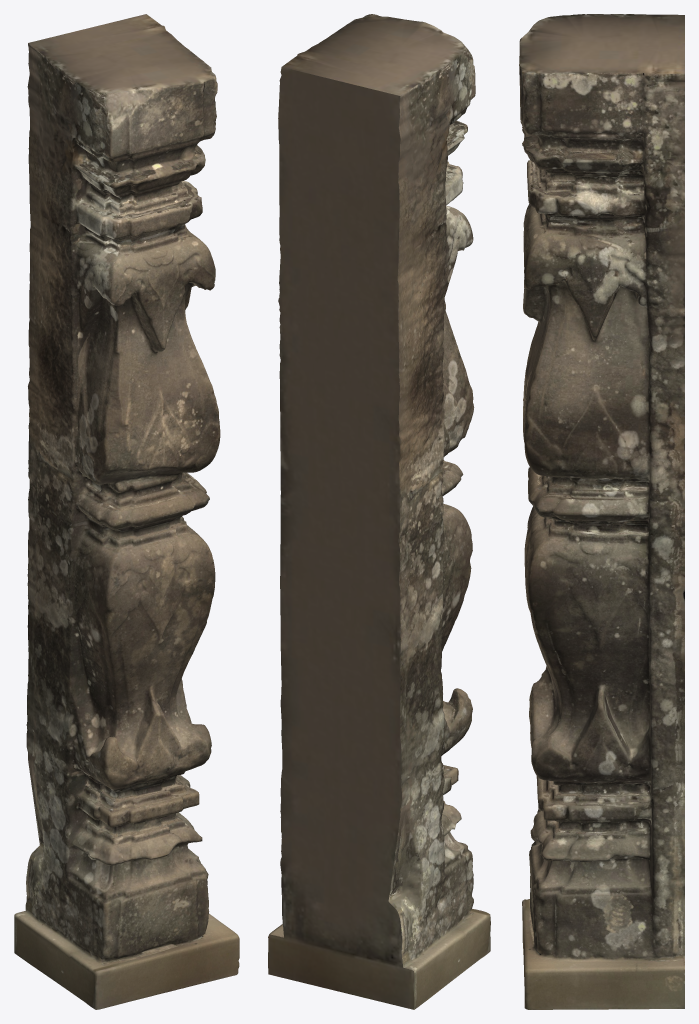
File: MysonMuseum_trucuaD2.glb
The picture shows the model from 3 angles, left to right: view 1: azimuth 30°, elevation 25°; view 2: azimuth 150°, elevation 25°; view 3: azimuth 270°, elevation 25°; orthographic projection. The views are drawn at different scales.
Visible parts, largest first — view 1: REMESH; view 2: REMESH; view 3: REMESH.
Boxes of the visible parts, x1,y1,x2,y2 form: REMESH: [14, 14, 239, 1009]; REMESH: [268, 14, 490, 1009]; REMESH: [519, 14, 684, 1009].
Bounding box in the file's own units: 0.4023 × 2.36 × 0.3814.
1 material, 1 textured.
